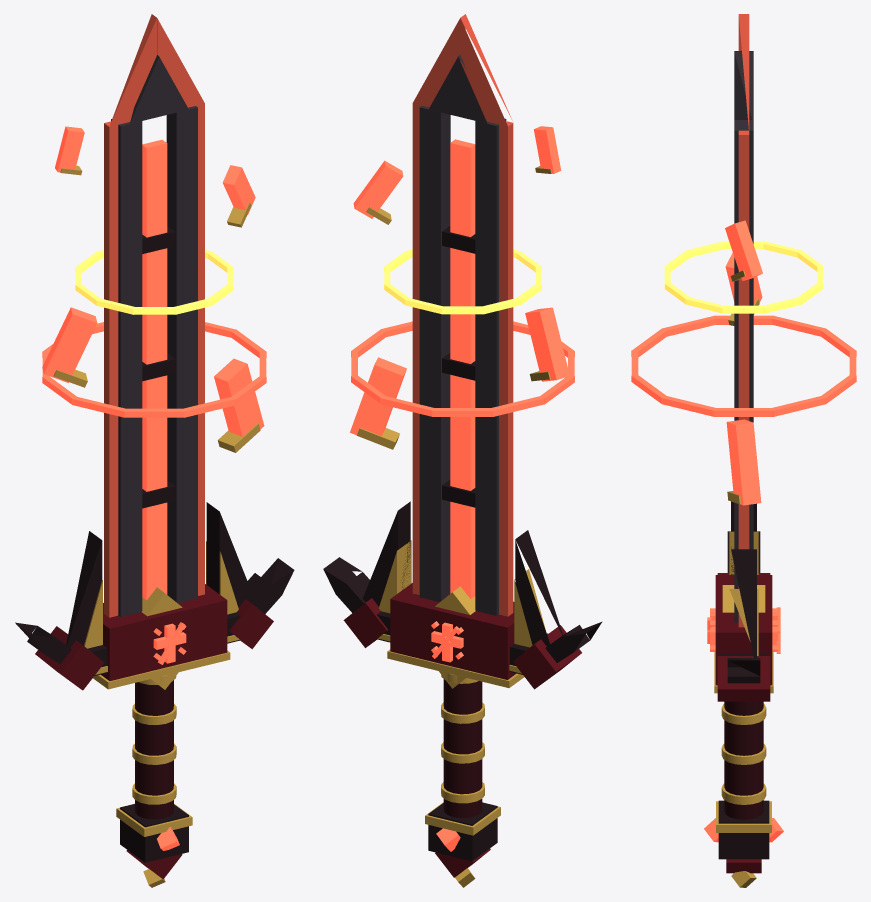
3 views of the same model, side by side, from view 1: azimuth 30°, elevation 25°; view 2: azimuth 150°, elevation 25°; view 3: azimuth 270°, elevation 25° (orthographic).
Visible parts, largest first — view 1: ruinbrand; view 2: ruinbrand; view 3: ruinbrand.
Boxes of the visible parts, bbox=[...] form: ruinbrand: bbox=[15, 14, 294, 887]; ruinbrand: bbox=[323, 14, 602, 887]; ruinbrand: bbox=[631, 14, 856, 887].
Bounding box in the file's own units: 0.4151 × 1.31 × 0.3061.
